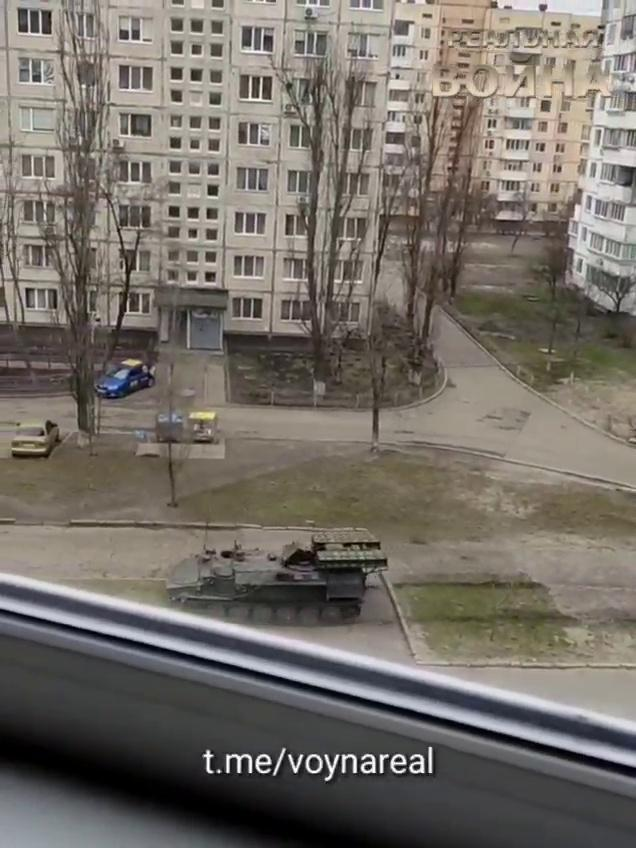car: (92, 360, 157, 399), (11, 417, 60, 458)
tank: (165, 529, 390, 624)
